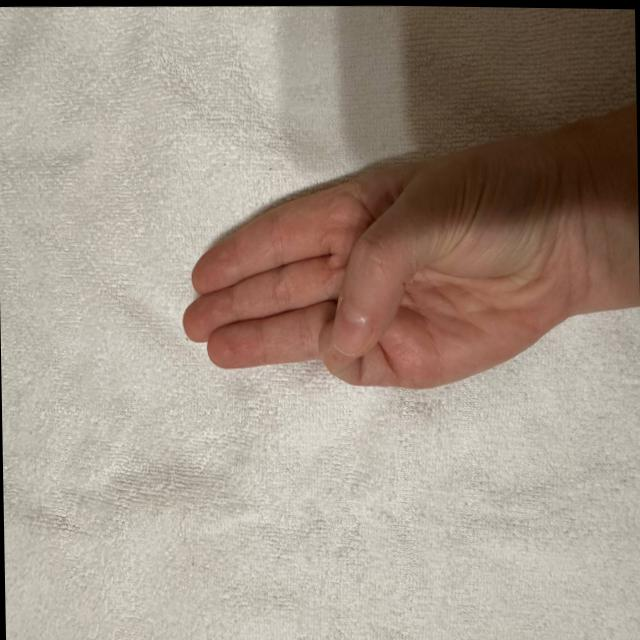sh: (155, 116, 530, 438)
